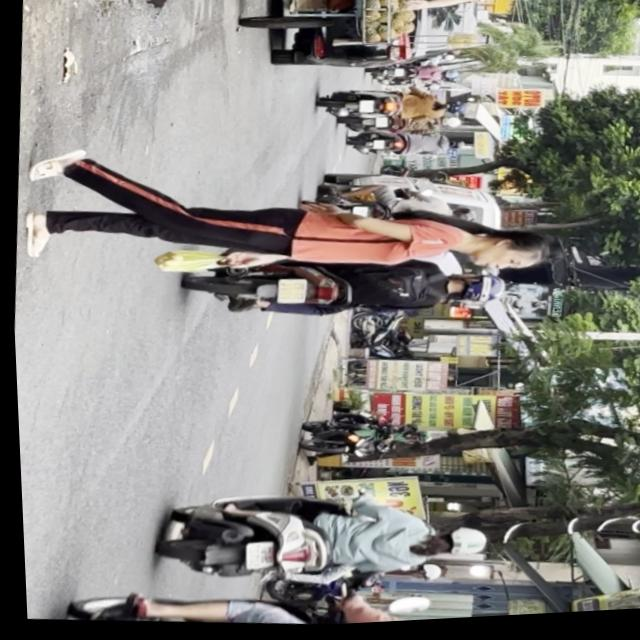helmet: (417, 528, 485, 568), (440, 275, 504, 312)
licenseplate: (147, 479, 491, 608), (179, 245, 510, 344)
nohelmet: (238, 542, 269, 573), (273, 281, 305, 308)
